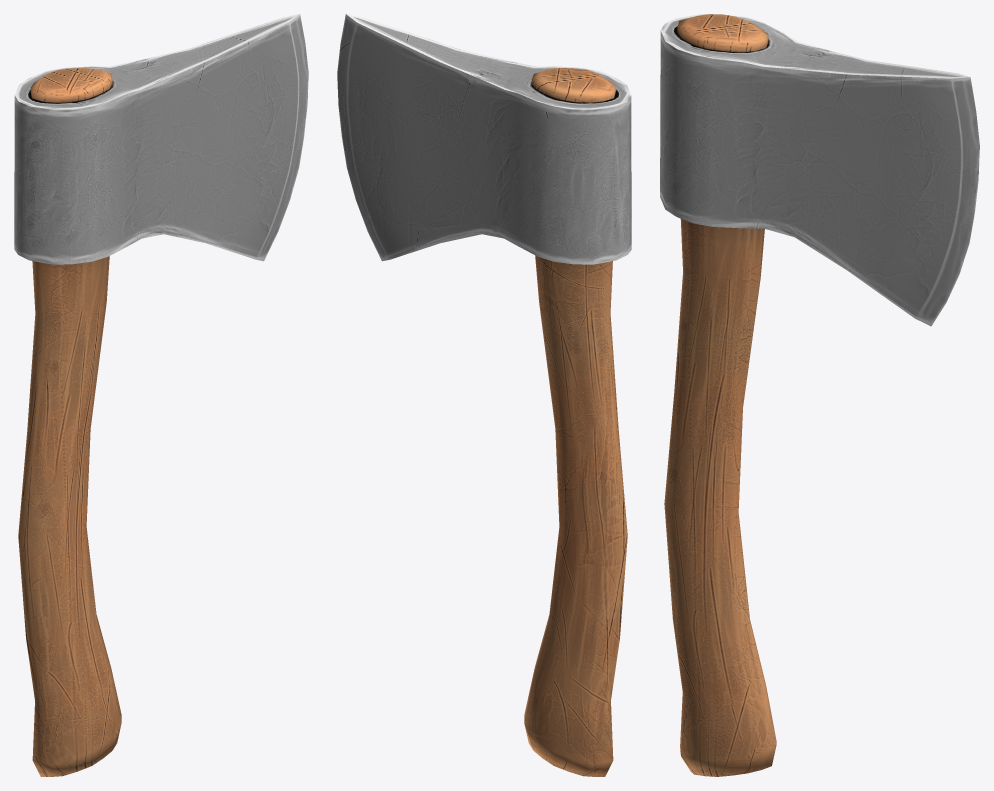
The model's file is Axe1.2_export.fbx.
The picture shows the model from 3 angles, left to right: view 1: azimuth 30°, elevation 25°; view 2: azimuth 150°, elevation 25°; view 3: azimuth 330°, elevation 25°; orthographic projection. The views are drawn at different scales.
Visible parts, largest first — view 1: Axe; view 2: Axe; view 3: Axe.
Part boxes in pixels (x1,y1,x2,y2): Axe: (14,14,308,776); Axe: (337,14,631,776); Axe: (660,14,979,776).
Bounding box in the file's own units: 15.85 × 36.46 × 4.5.
